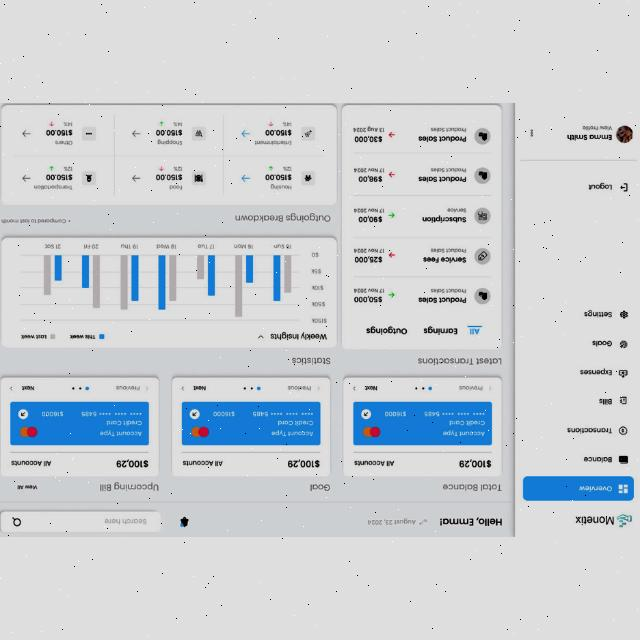QLabel: (235, 212, 332, 222), (418, 357, 502, 365), (100, 482, 160, 492), (438, 518, 504, 526), (442, 483, 502, 491), (292, 356, 332, 366), (418, 296, 466, 304), (422, 214, 466, 222), (367, 326, 408, 334), (288, 458, 320, 468), (458, 459, 492, 468), (368, 518, 417, 524), (419, 176, 467, 182), (419, 135, 467, 141), (354, 459, 394, 466), (182, 459, 222, 466), (1, 218, 71, 222), (424, 326, 458, 334), (117, 460, 149, 468), (424, 256, 466, 262), (11, 460, 52, 466), (34, 183, 72, 189), (354, 134, 382, 142), (430, 166, 466, 172), (431, 126, 467, 132), (46, 173, 74, 180), (354, 255, 382, 262), (359, 214, 383, 222), (266, 173, 292, 180), (157, 173, 183, 180), (354, 287, 384, 293), (354, 126, 384, 132), (354, 296, 382, 302), (310, 483, 330, 491), (254, 140, 292, 144), (431, 288, 467, 292), (431, 248, 467, 252), (358, 175, 382, 181), (468, 325, 482, 335), (16, 484, 38, 490), (270, 184, 292, 190), (354, 248, 384, 252), (354, 208, 384, 212), (354, 168, 384, 172), (169, 183, 183, 190), (158, 140, 182, 144), (448, 208, 467, 212), (55, 140, 73, 144), (173, 165, 183, 171), (174, 120, 182, 126), (64, 120, 72, 126), (282, 166, 292, 170), (282, 121, 292, 125), (64, 166, 72, 170)
QMenu: (514, 103, 640, 537)
VAppBar: (0, 501, 514, 537)
VBadge: (179, 516, 189, 528)
VCard: (342, 103, 502, 349), (0, 235, 338, 348), (0, 104, 338, 204), (0, 376, 160, 478), (342, 377, 502, 478), (172, 376, 331, 476)
VCarousel: (9, 384, 150, 446), (180, 384, 320, 446), (352, 384, 492, 446)
VDivider: (10, 450, 150, 454), (352, 451, 492, 454), (182, 451, 321, 454), (352, 276, 492, 278), (353, 194, 491, 196), (354, 236, 491, 238), (354, 151, 491, 153)
VIcon: (478, 290, 488, 300), (478, 251, 488, 261), (478, 210, 488, 220), (478, 170, 488, 180), (194, 172, 203, 182), (418, 518, 428, 526), (240, 174, 250, 182), (132, 174, 142, 182), (22, 129, 32, 137), (242, 128, 250, 138), (132, 129, 140, 137), (304, 174, 312, 182), (304, 129, 312, 137), (479, 132, 487, 140), (22, 173, 31, 180), (86, 174, 92, 182), (195, 130, 202, 136), (389, 171, 395, 177), (389, 212, 395, 218), (389, 252, 395, 258), (159, 120, 163, 126), (50, 120, 54, 126), (269, 120, 273, 126), (389, 132, 395, 136), (389, 292, 395, 296), (85, 132, 93, 134), (269, 166, 273, 170), (159, 166, 163, 170), (50, 166, 54, 170)
VTabs: (349, 120, 493, 340)
VTextField: (0, 512, 162, 532)
